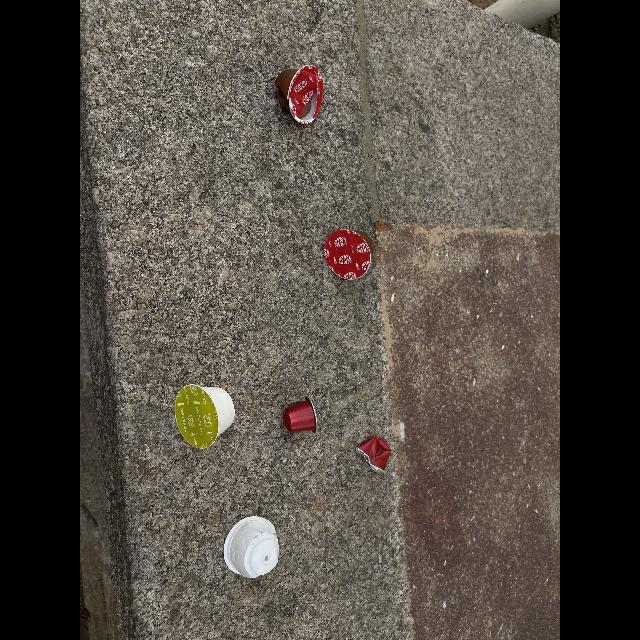damaged_capsule: (217, 512, 287, 580), (273, 61, 329, 129), (354, 433, 394, 479)
intact_capsule: (170, 378, 248, 450), (320, 227, 378, 281), (281, 394, 329, 442)
